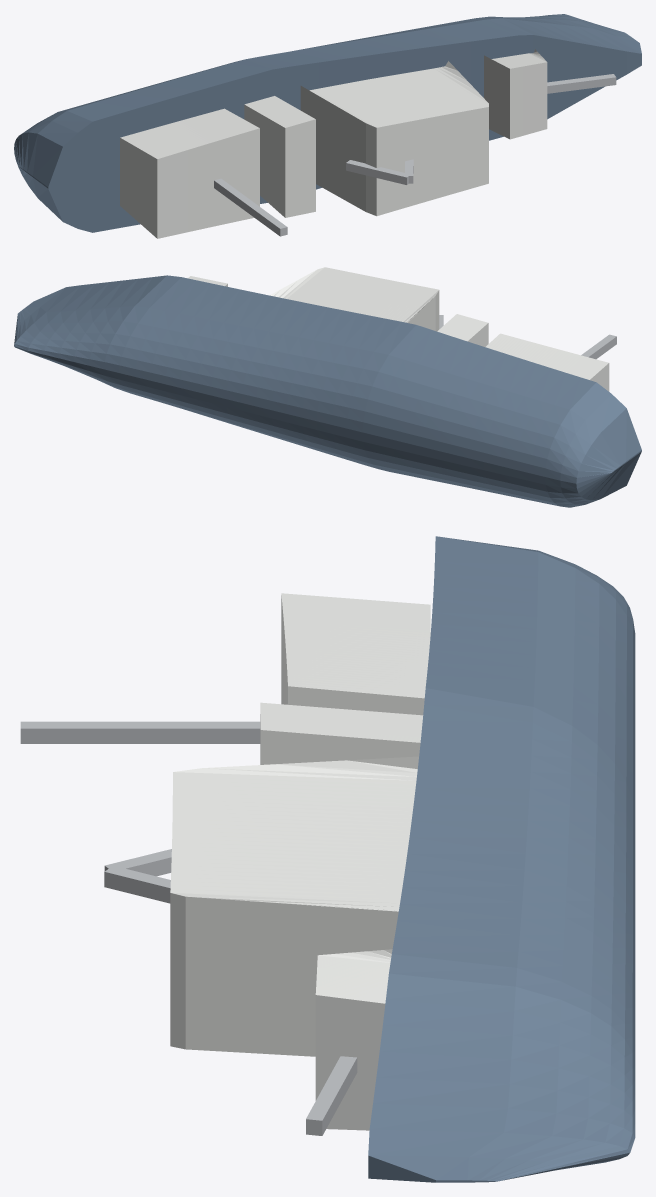
The model's file is loft-warship-highside.glb.
3 views of the same model, one above another, from view 1: azimuth 30°, elevation 25°; view 2: azimuth 150°, elevation 25°; view 3: azimuth 270°, elevation 25° (orthographic). The views are drawn at different scales.
Parts seen in each view (by area): view 1: loft-warship-highside; view 2: loft-warship-highside; view 3: loft-warship-highside.
Part boxes in pixels (x1,y1,x2,y2): loft-warship-highside: (14, 14, 641, 238); loft-warship-highside: (14, 267, 641, 507); loft-warship-highside: (20, 536, 635, 1182).
Size of the model in its own units: 1.93 by 0.4133 by 0.868.
